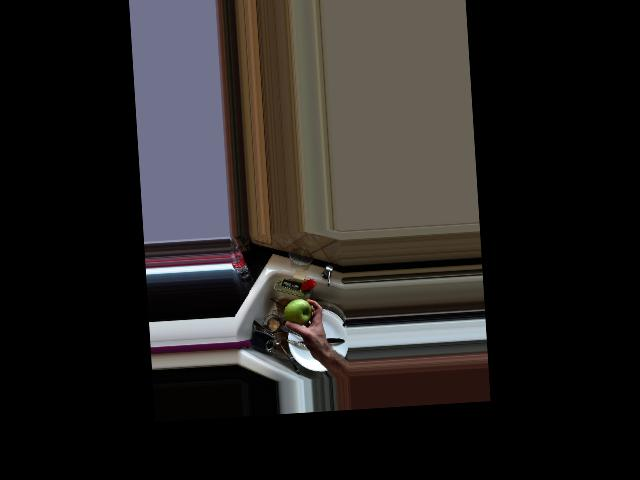apple: (282, 297, 315, 329)
